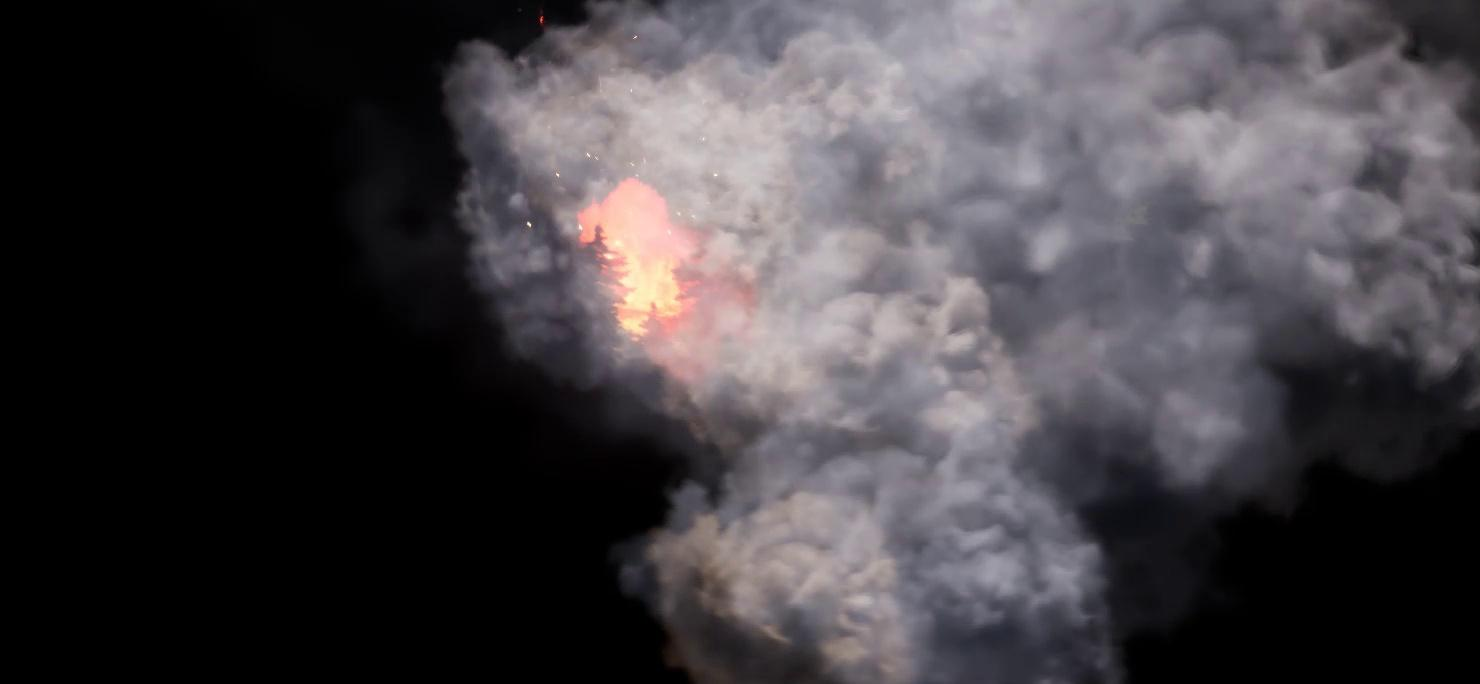fire: (559, 181, 749, 340)
smoke: (431, 0, 1479, 683)
